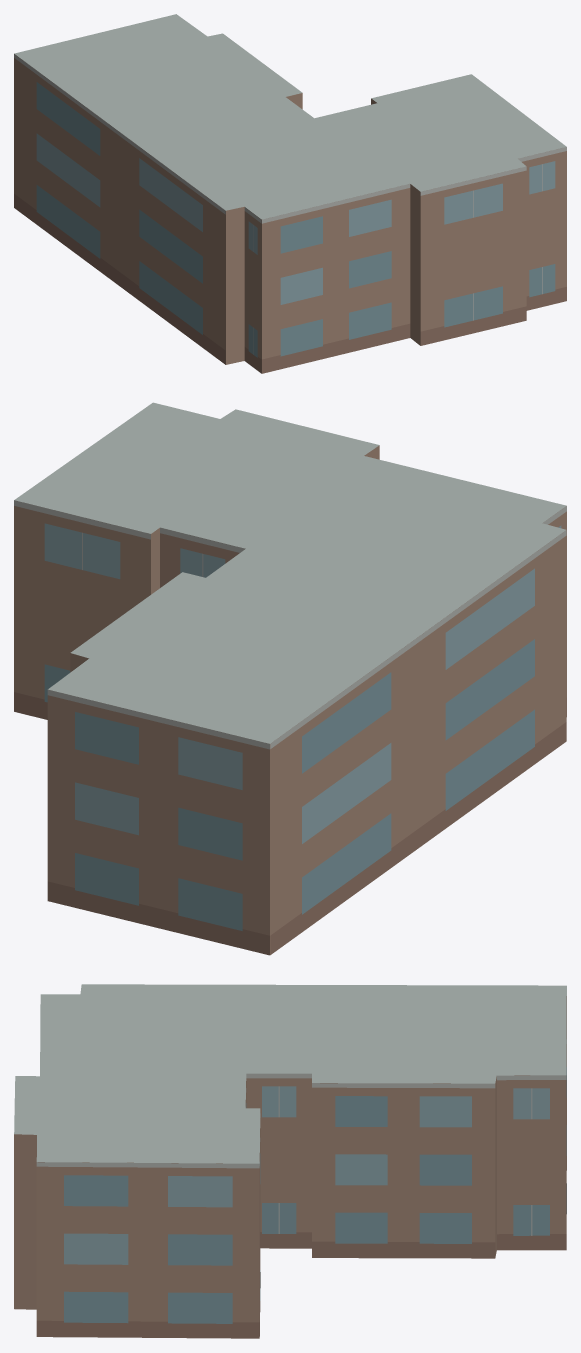
File: survey-upis-32867606.glb
The picture shows the model from 3 angles, top to bottom: view 1: azimuth 30°, elevation 25°; view 2: azimuth 150°, elevation 25°; view 3: azimuth 270°, elevation 25°; orthographic projection. The views are drawn at different scales.
Visible parts, largest first — view 1: survey-upis-32867606.tmp; view 2: survey-upis-32867606.tmp; view 3: survey-upis-32867606.tmp.
Part boxes in pixels (bbox=[...]): survey-upis-32867606.tmp: bbox=[14, 14, 566, 373]; survey-upis-32867606.tmp: bbox=[14, 402, 566, 955]; survey-upis-32867606.tmp: bbox=[14, 984, 566, 1338].
Size of the model in its own units: 20.14 by 9.15 by 26.22.
